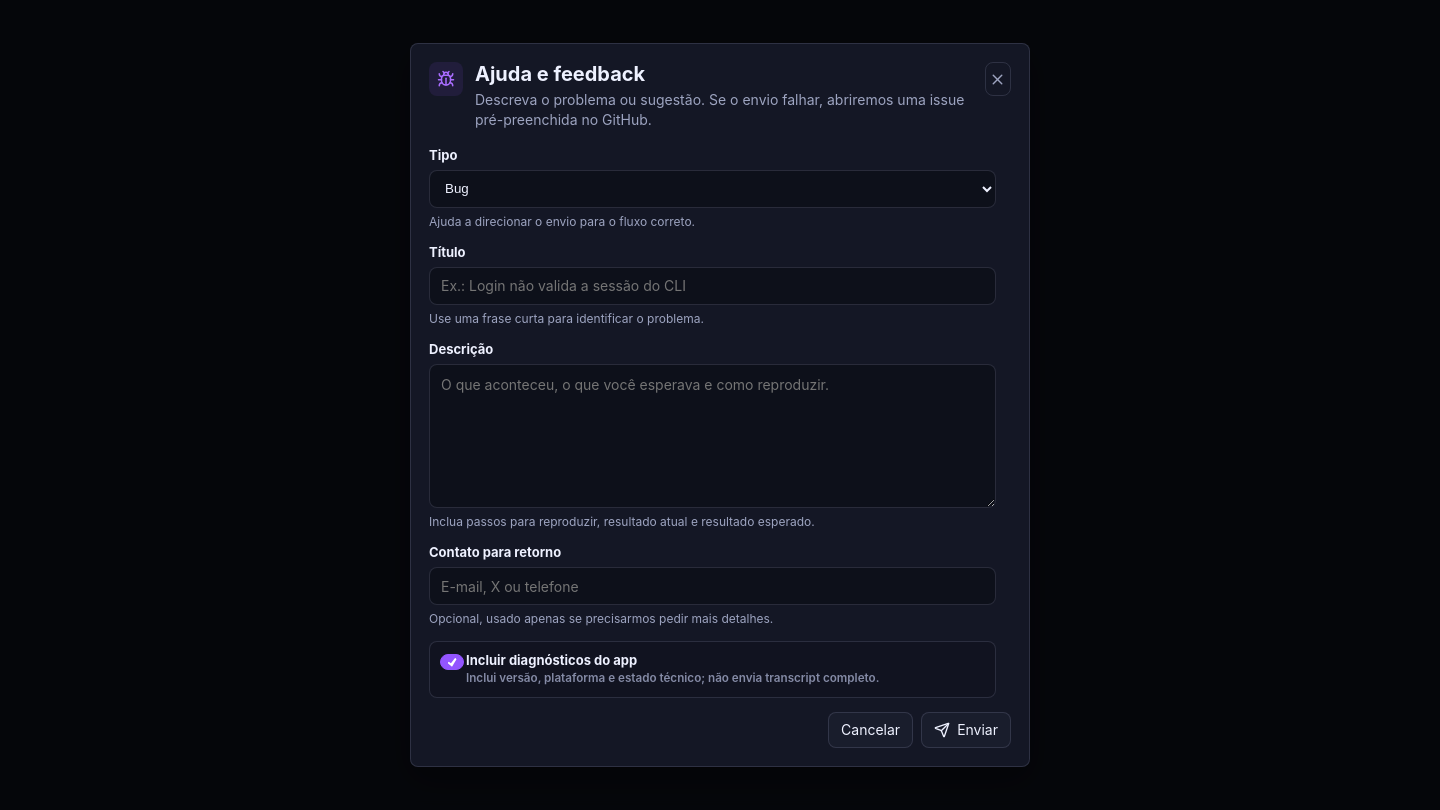
Scenario: FeedbackDialog — fallback to GitHub issue (code-driven, provider-neutral) › pt-BR: supabase_unconfigured shows provider-neutral issue copy
The width and height of the screenshot is (1440, 810).
Type "Something broke" into the field labelled "Título".
click(712, 286); type("Something broke")  # box [429, 267, 996, 305]
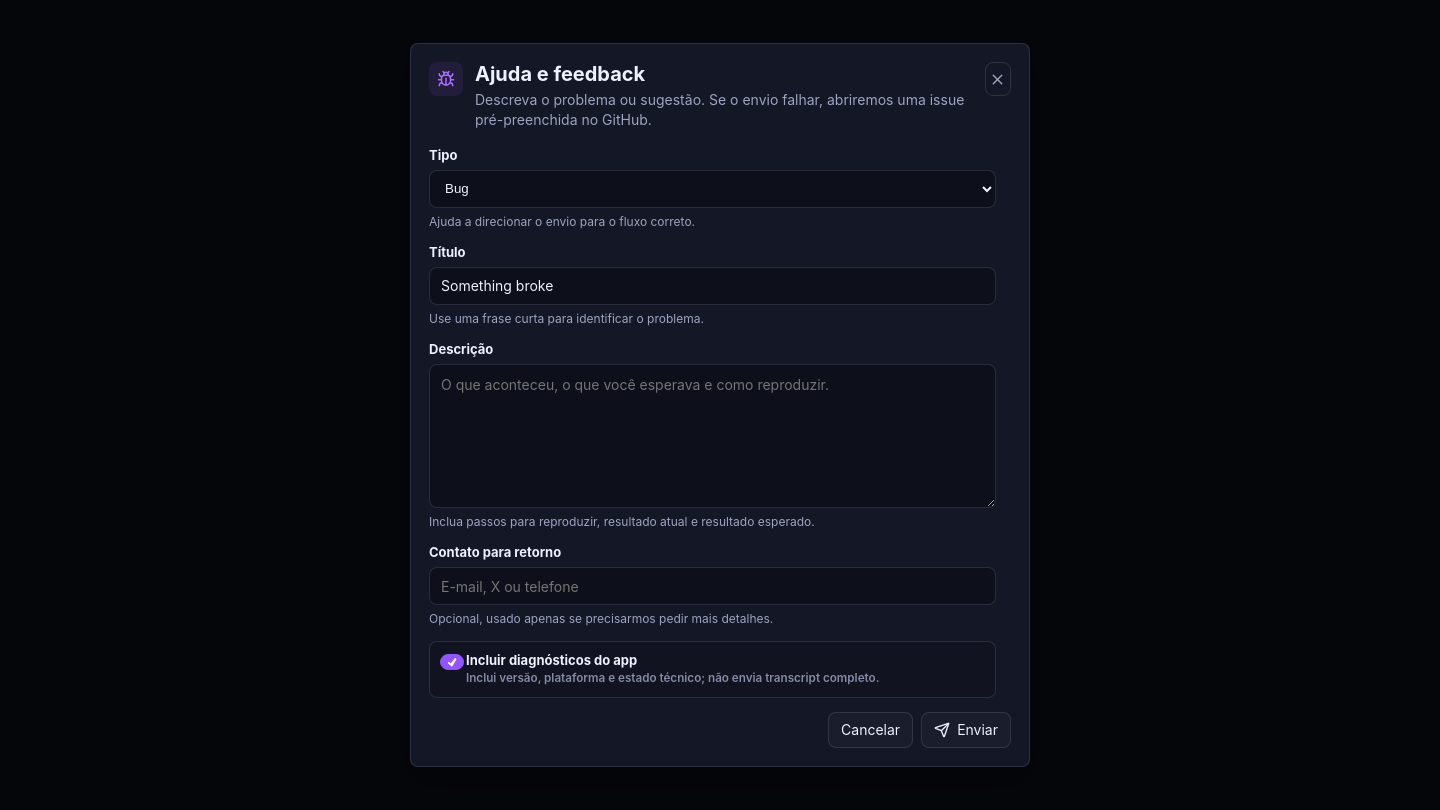
Type "It failed in a reproducible way" into the text box labelled "Descrição".
click(712, 436); type("It failed in a reproducible way")  # box [429, 364, 996, 508]
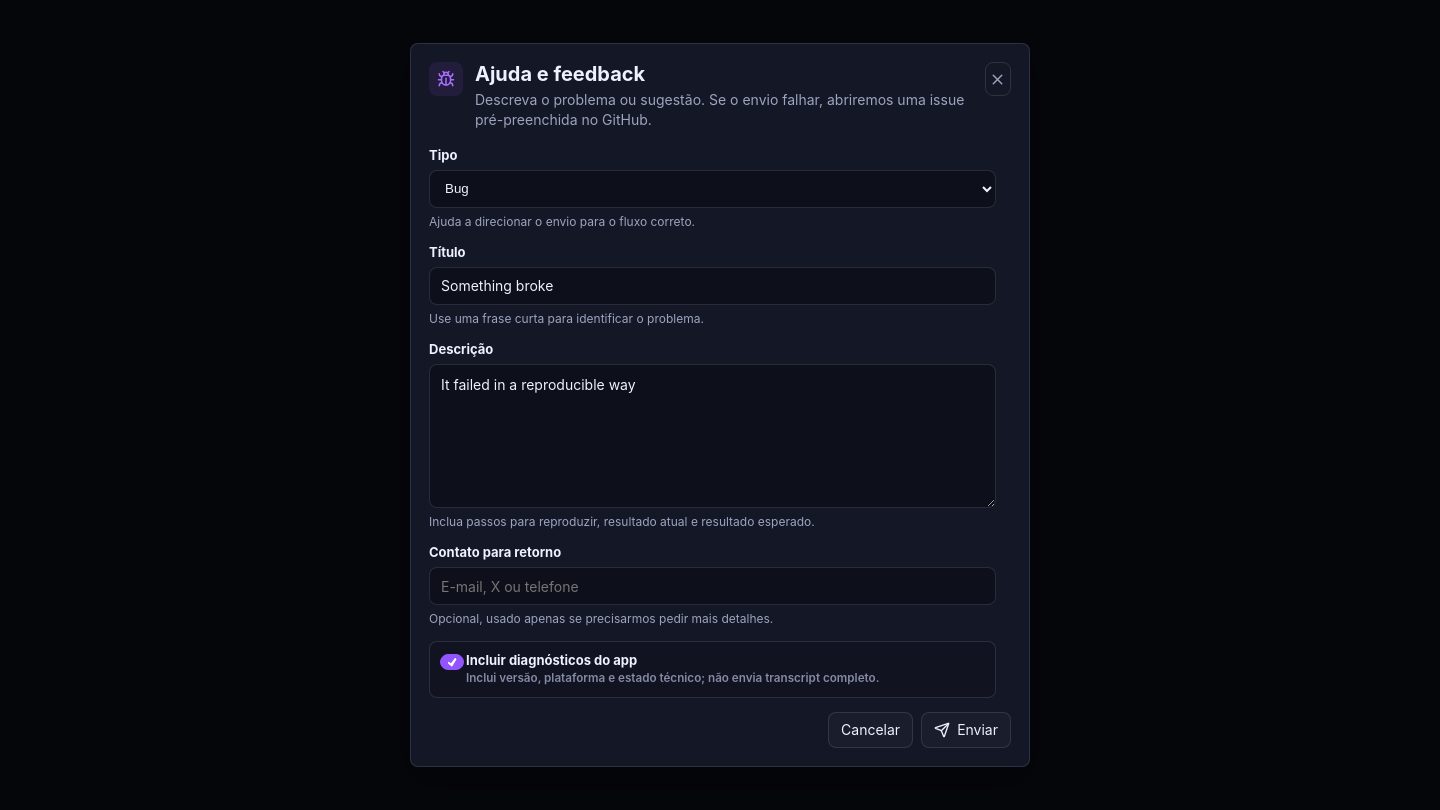
Click the button "Enviar".
click(966, 730)  # box [921, 712, 1011, 748]
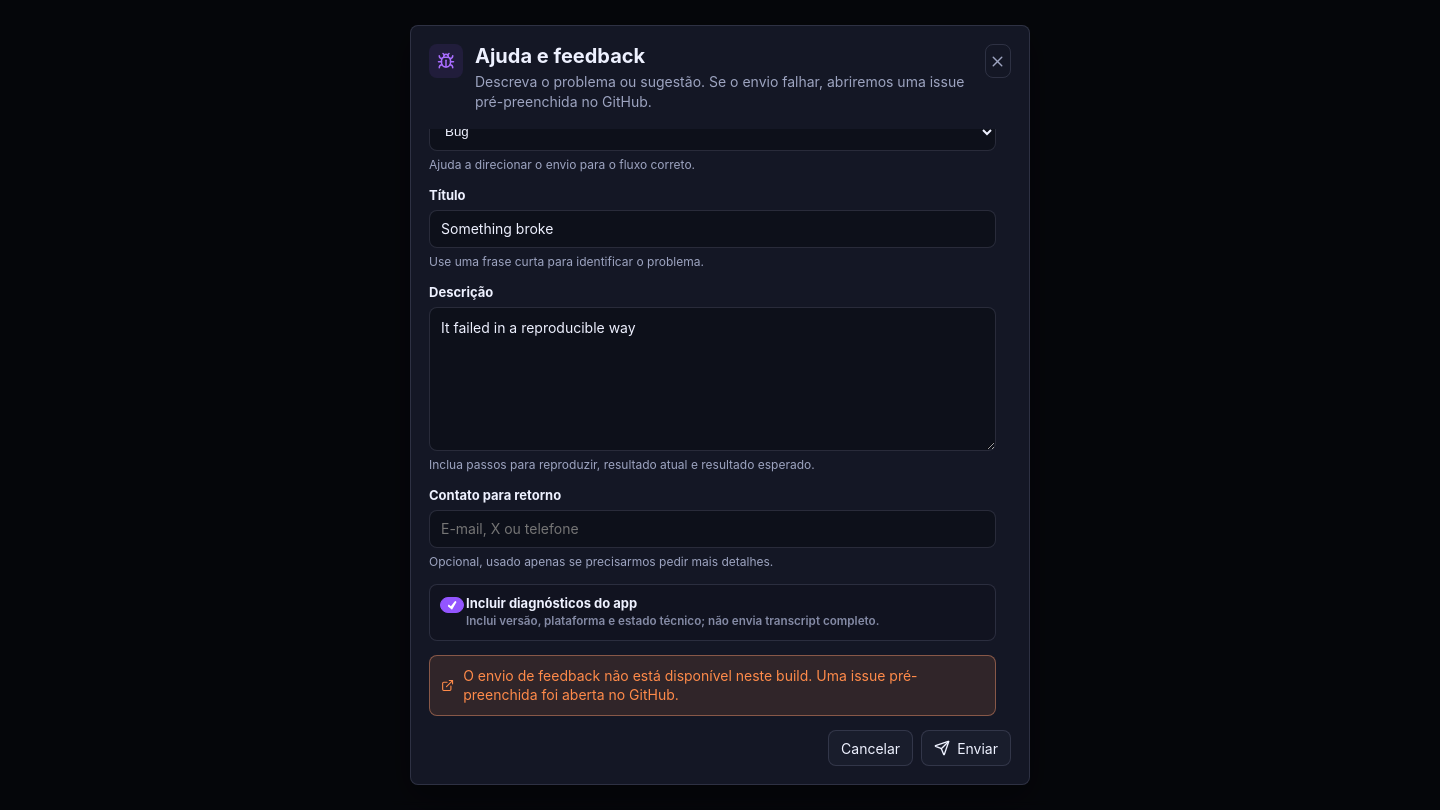
Now the text "O envio de feedback não está disponível neste build. Uma issue pré-preenchida foi aberta no GitHub" is shown, box [463, 667, 918, 704]
